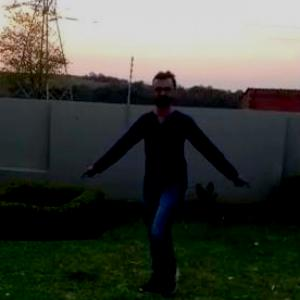land: (104, 81, 225, 258)
